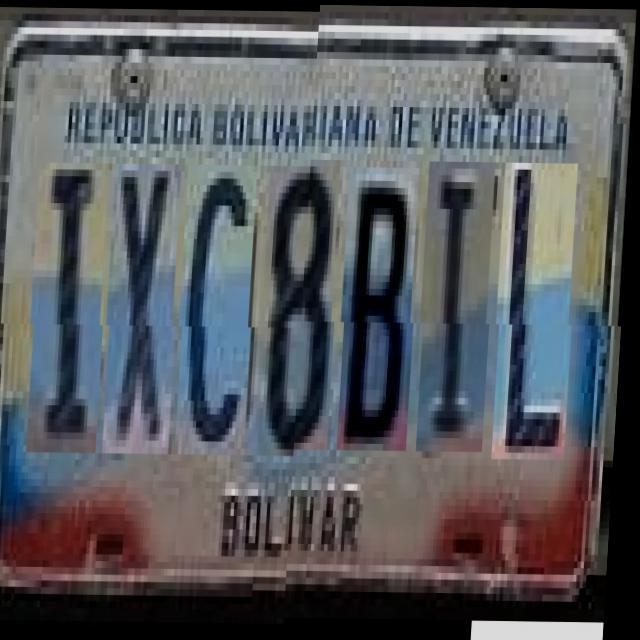8: (262, 165, 346, 455)
B: (342, 172, 424, 456)
C: (180, 164, 263, 454)
I: (31, 162, 114, 452), (421, 167, 500, 457)
L: (497, 168, 582, 465)
X: (108, 164, 186, 454)
